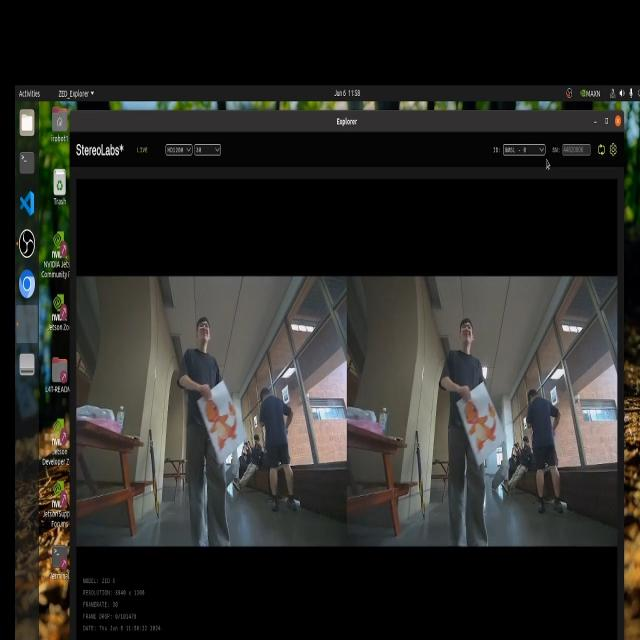red: (206, 390, 240, 454), (463, 390, 495, 454)
